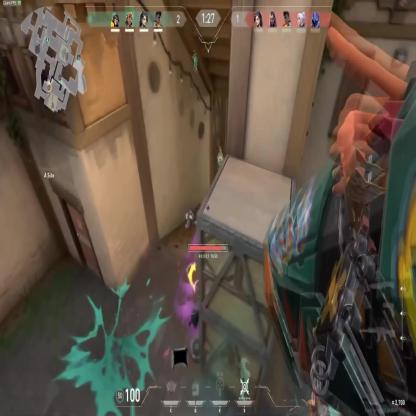enemy: (216, 144, 223, 184)
enemy_head: (219, 146, 222, 156)
